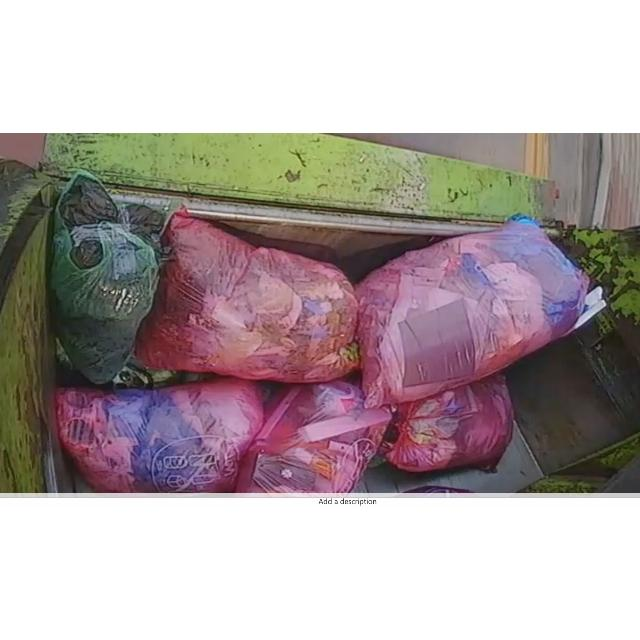general_trashbag: (51, 170, 165, 383)
other_trashbag: (356, 217, 588, 406), (135, 210, 359, 382), (56, 377, 264, 492), (236, 380, 391, 492), (380, 373, 514, 472)
